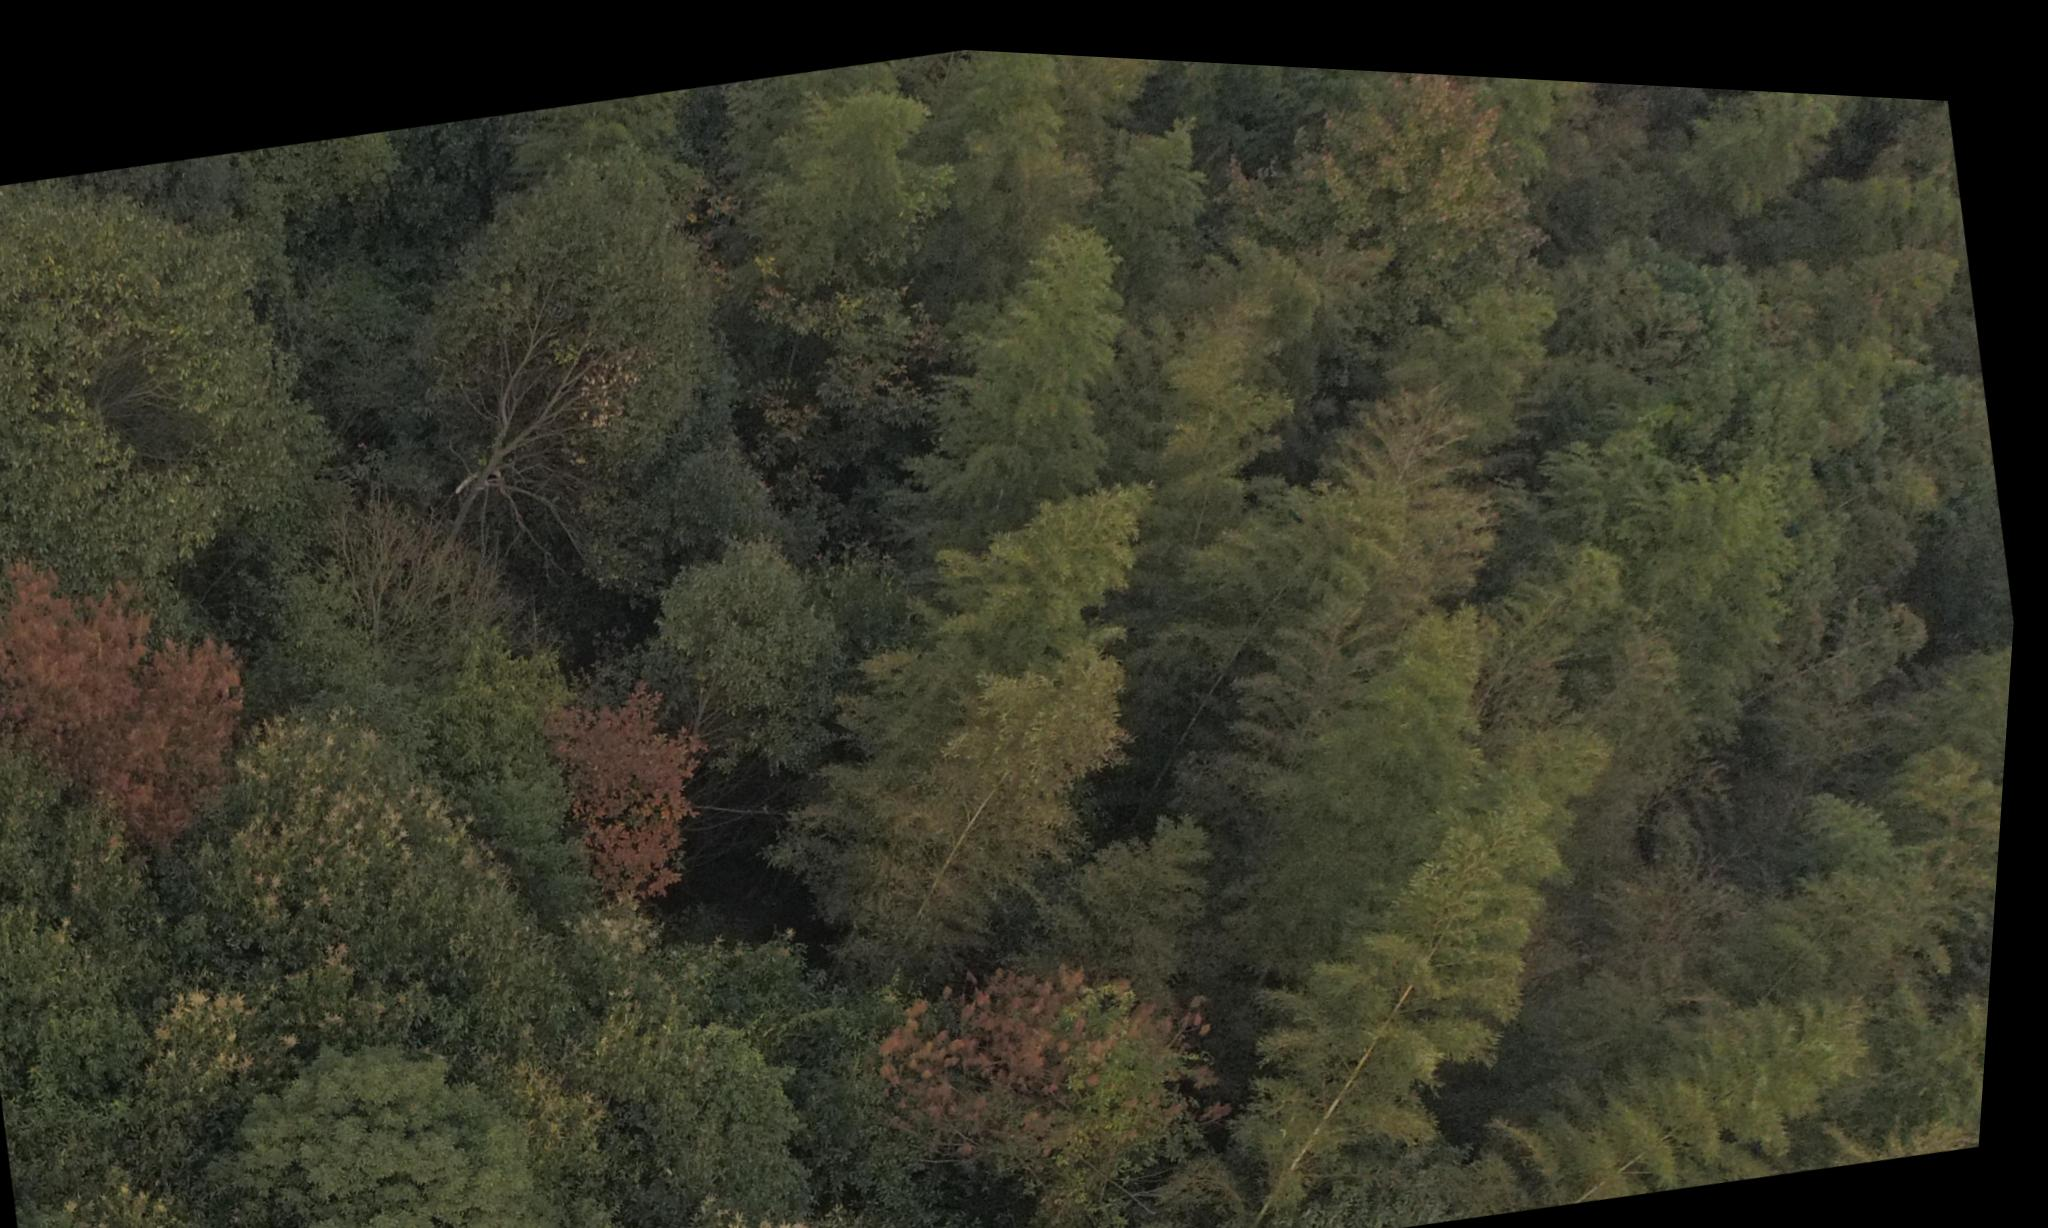heavy: (0, 512, 291, 889)
light: (893, 914, 1257, 1206)
